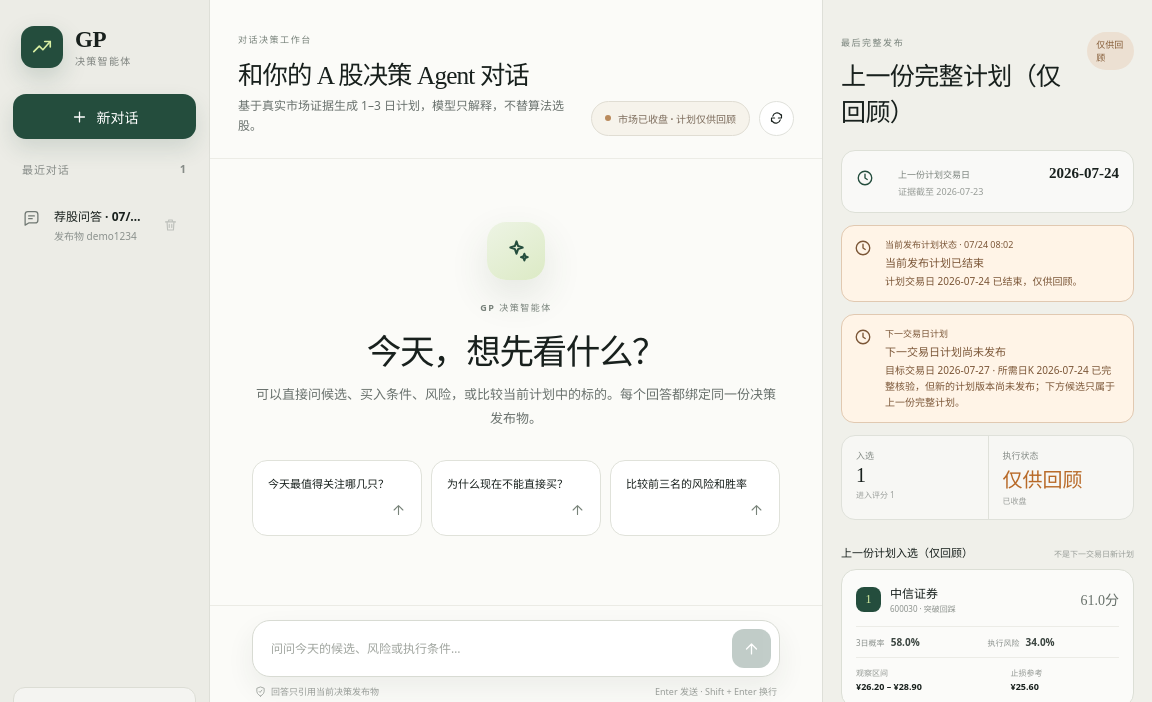
it: GP chat workspace › deletes the active conversation after confirmation and resets the workspace
What coordinates should you click on to do the following:
click the button "荐股问答 · 07/23 10:01 发布物 demo1234"
I would click on:
 (84, 225)
Its box is [13, 197, 154, 253].
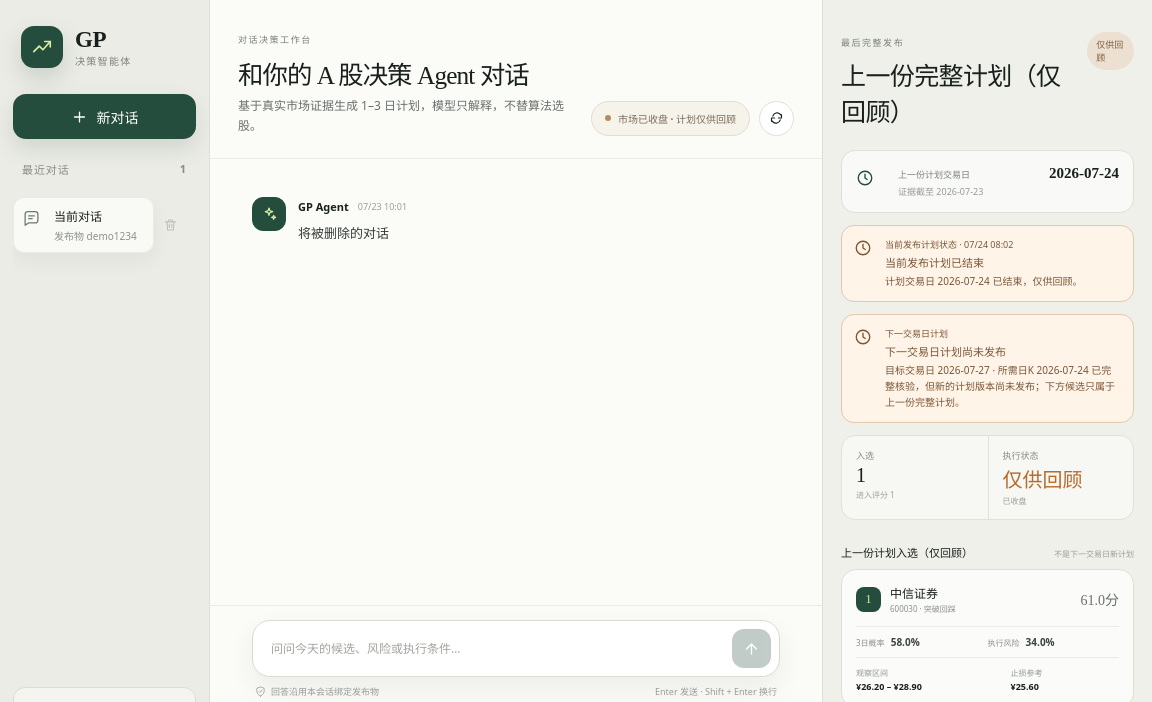
Expected: the text "将被删除的对话" is shown, [298, 224, 389, 242]
What coordinates should you click on to do the following:
click the button named "删除对话"
I would click on:
 (170, 225)
Its box is [156, 211, 184, 239].
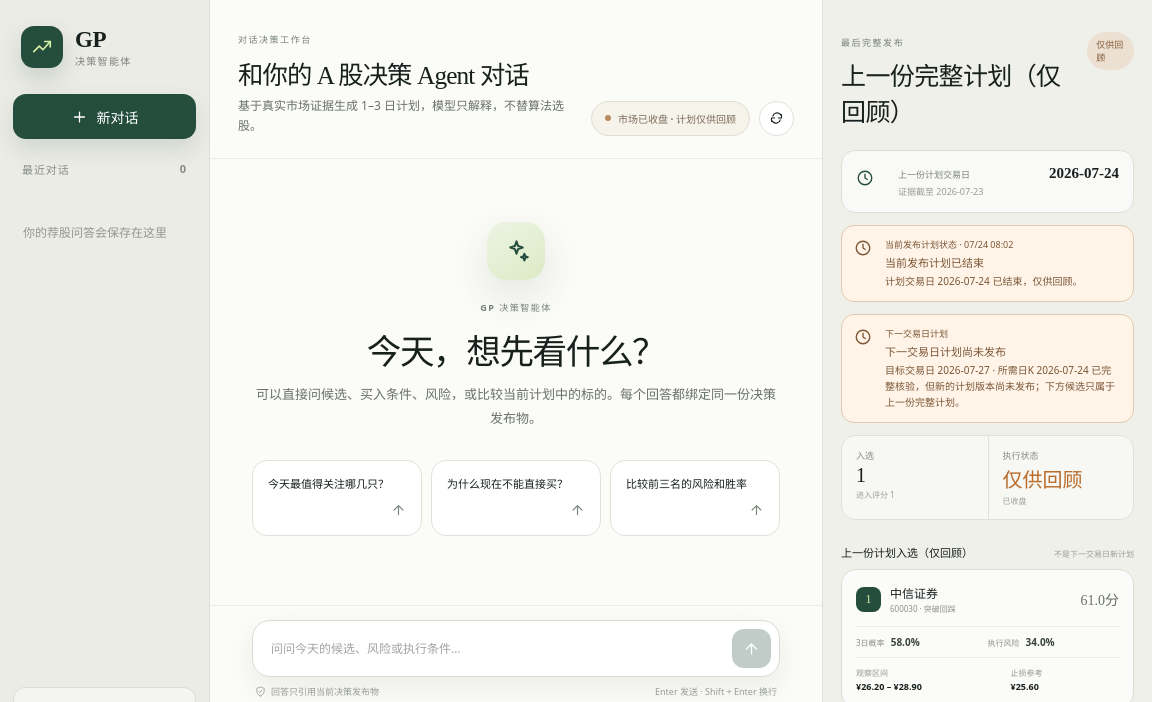
Expected: the text "你的荐股问答会保存在这里" is shown, [23, 224, 167, 241]
Expected: the text "将被删除的对话" is gone
Expected: the heading "今天，想先看什么？" is shown, [367, 324, 665, 374]
